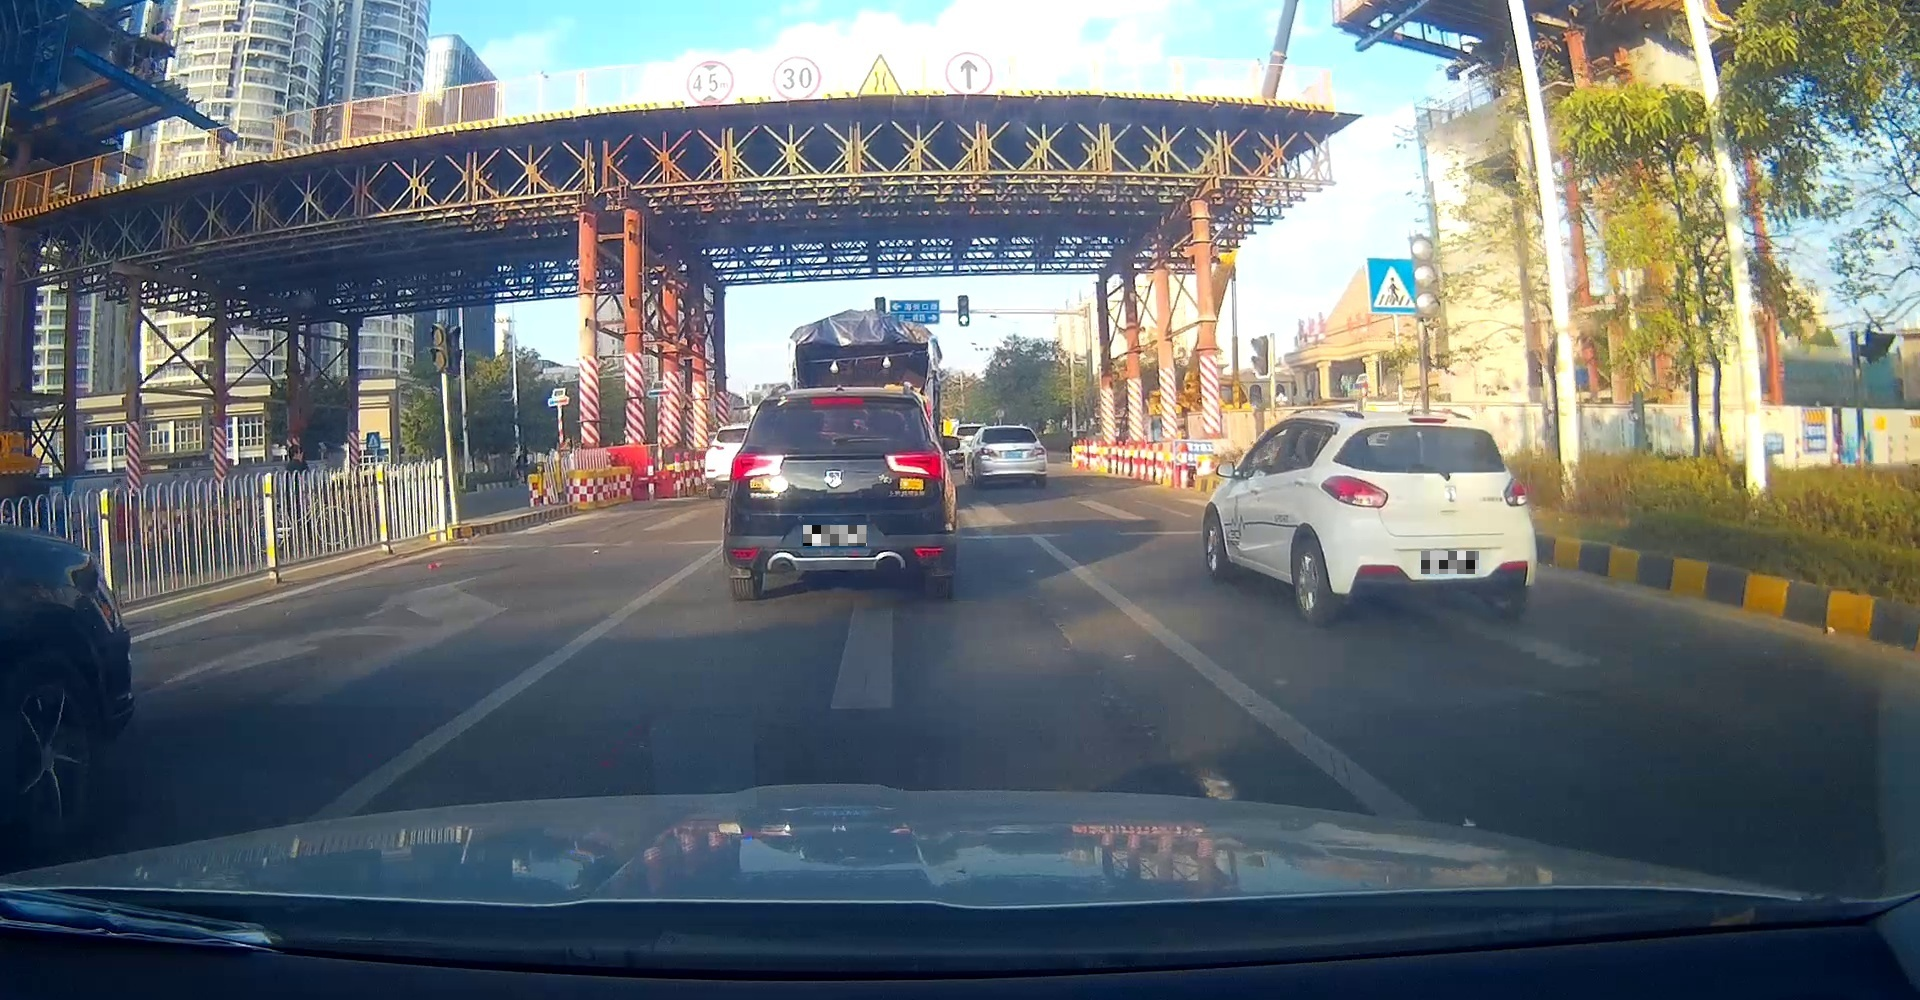L_light: (1321, 475, 1389, 508), (731, 452, 786, 478), (978, 448, 997, 456)
R_light: (883, 451, 946, 481), (1503, 476, 1528, 508), (1029, 447, 1044, 457)
T_light: (810, 393, 863, 407), (1406, 416, 1448, 425), (1001, 438, 1016, 443)
day-no: (729, 387, 946, 602), (1318, 415, 1534, 623), (977, 426, 1046, 489)
plate_1: (1421, 551, 1479, 574), (803, 525, 867, 546)
